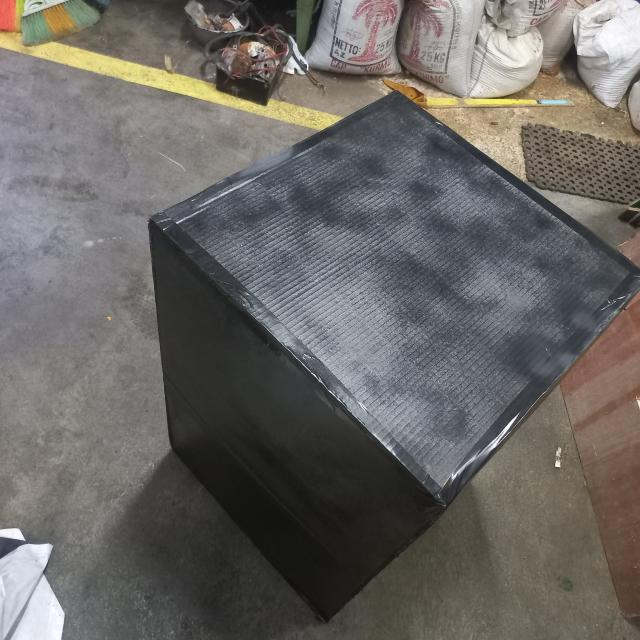obstacle: (151, 89, 640, 620)
